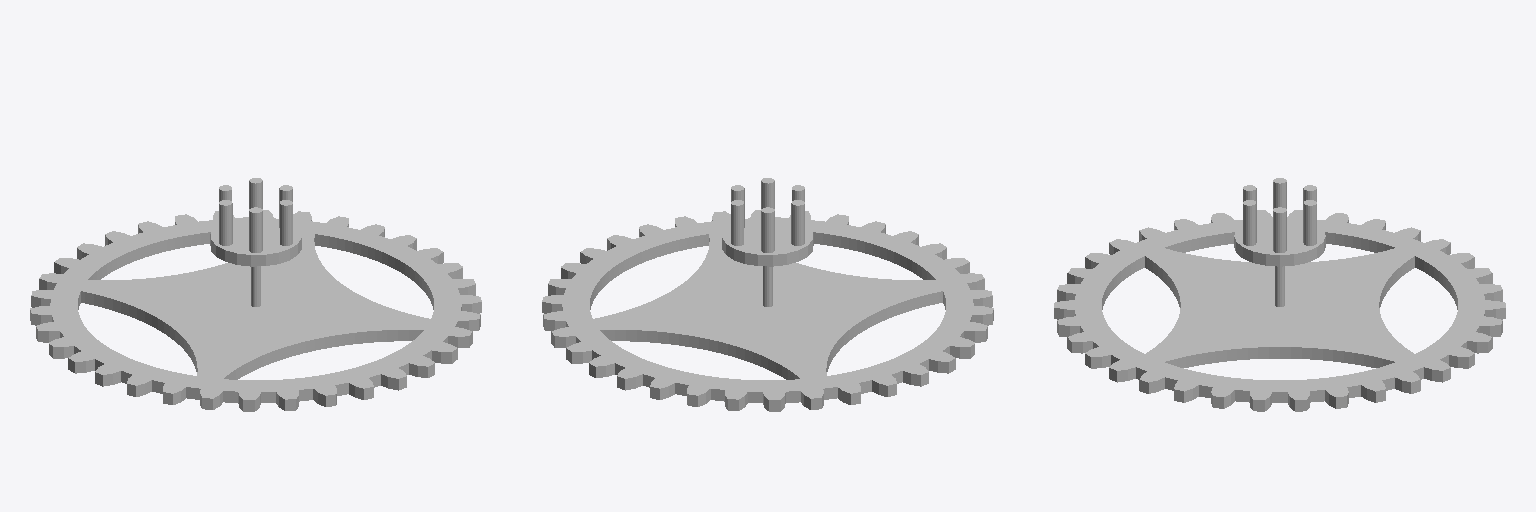
Rendered from escapeWithPinion.obj.
3 views of the same model, side by side, from view 1: azimuth 30°, elevation 25°; view 2: azimuth 150°, elevation 25°; view 3: azimuth 270°, elevation 25° (orthographic).
Visible parts, largest first — view 1: escapeGear1 escapeGear; view 2: escapeGear1 escapeGear; view 3: escapeGear1 escapeGear.
Boxes of the visible parts, x1,y1,x2,y2 form: escapeGear1 escapeGear: [30, 178, 481, 411]; escapeGear1 escapeGear: [542, 178, 993, 411]; escapeGear1 escapeGear: [1054, 178, 1505, 411].
Size of the model in its own units: 4.42 by 1.31 by 4.43.